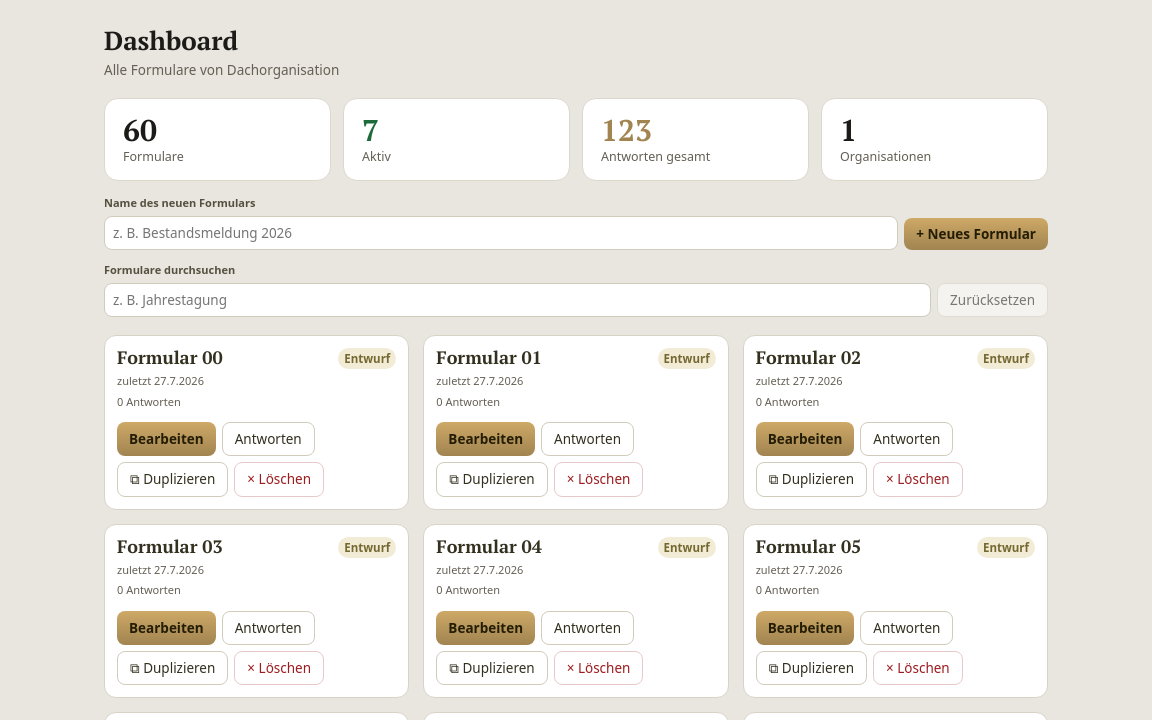
Test: DashboardView › page, search and counter › says the term found nothing, not that the organisation is empty
Check: the heading "Formular 00" is shown, box [117,346,223,369]
Step 1. Type "gibtesnicht" into the search field labelled "Formulare durchsuchen" → (518, 300), box [104,283,931,317]
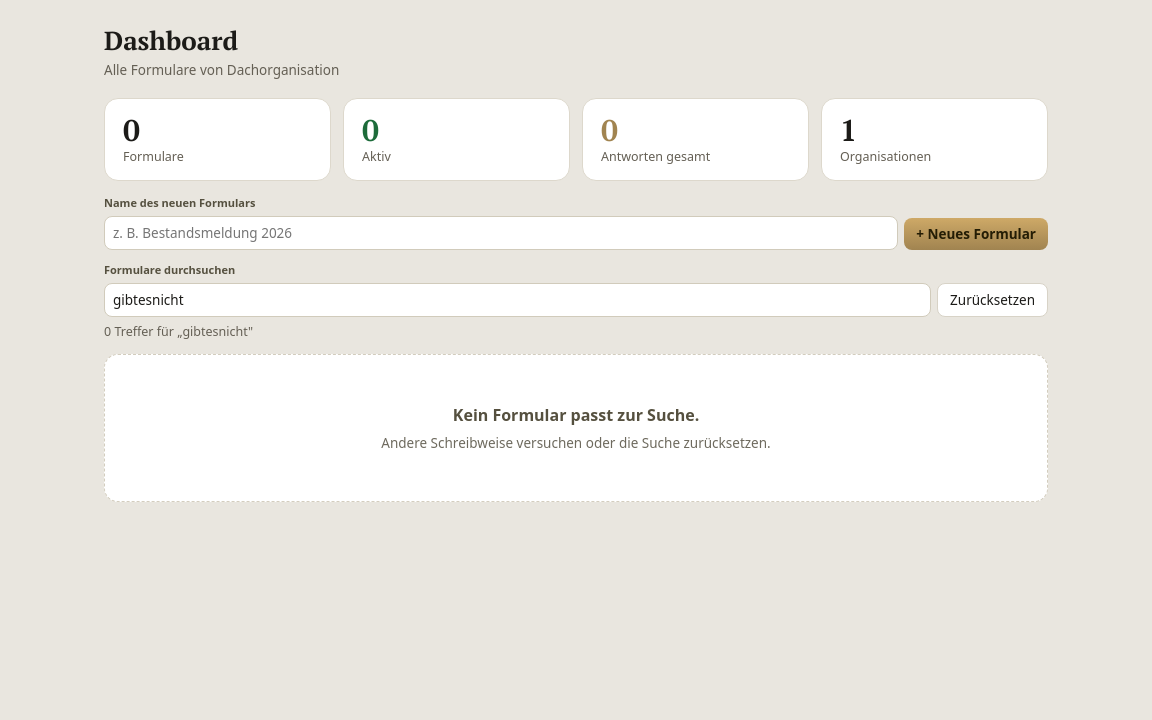
Check: the text "Kein Formular passt zur Suche" is shown, box [453,404,699,426]
